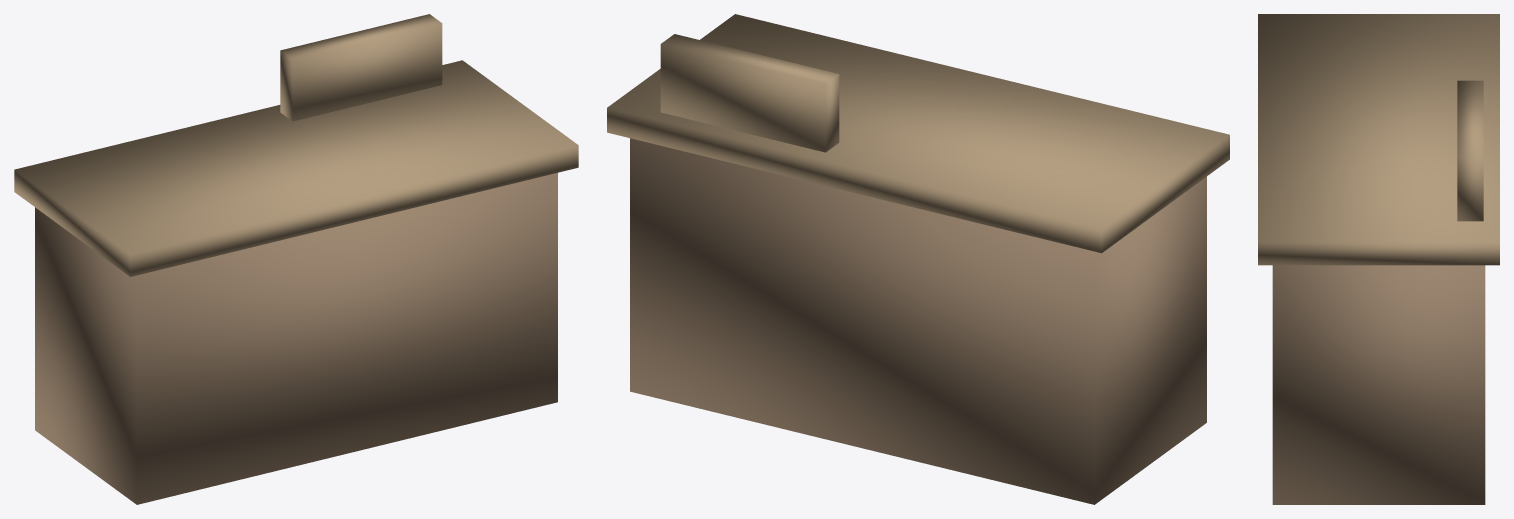
The model's file is clerk_counter__reinforced.glb.
3 renders of one model, left to right at view 1: azimuth 30°, elevation 25°; view 2: azimuth 150°, elevation 25°; view 3: azimuth 270°, elevation 25°, orthographic. The views are drawn at different scales.
Parts seen in each view (by area): view 1: world; view 2: world; view 3: world.
Boxes of the visible parts, x1,y1,x2,y2 form: world: [14, 14, 578, 504]; world: [607, 14, 1229, 504]; world: [1258, 14, 1499, 504].
Bounding box in the file's own units: 1.7 × 1.16 × 0.7622.
